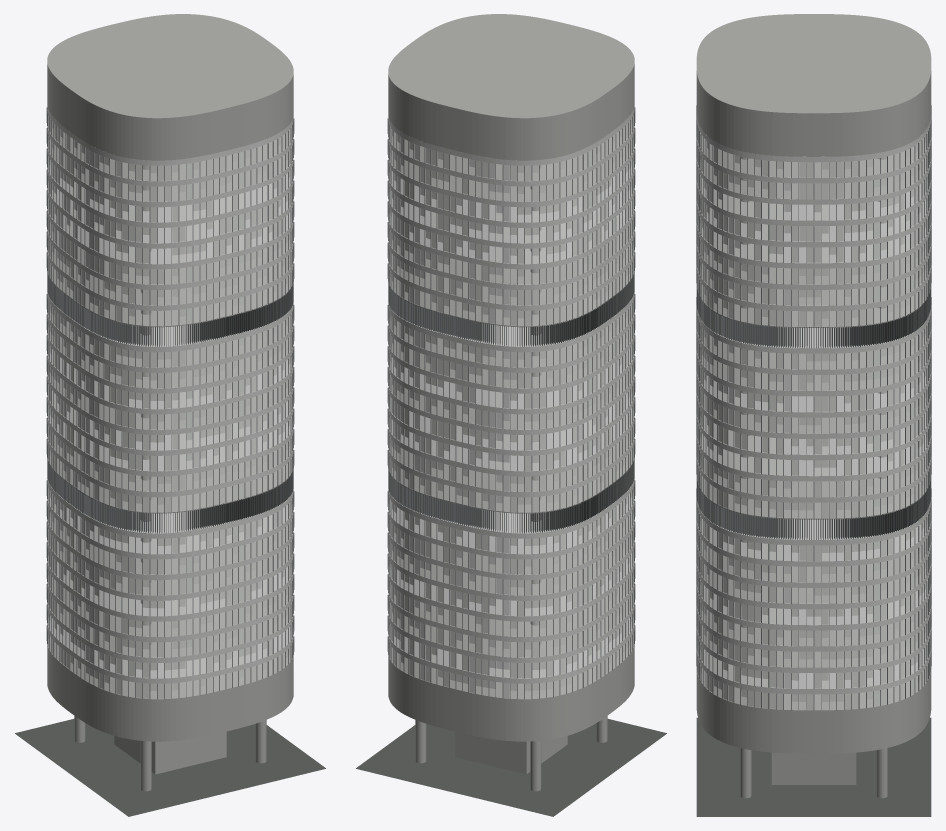
The model's file is office_tower.optimized.glb.
3 renders of one model, left to right at view 1: azimuth 30°, elevation 25°; view 2: azimuth 150°, elevation 25°; view 3: azimuth 270°, elevation 25°, orthographic. The views are drawn at different scales.
Parts seen in each view (by area): view 1: Office_Glass, Web_OfficeConcrete, Web_OfficeSpandrel, Office_Frosted_Curtains, Web_OfficeMullions, Office_Ground; view 2: Office_Glass, Web_OfficeConcrete, Web_OfficeSpandrel, Office_Frosted_Curtains, Web_OfficeMullions, Office_Ground; view 3: Web_OfficeConcrete, Office_Glass, Web_OfficeSpandrel, Office_Frosted_Curtains, Web_OfficeMullions, Office_Ground.
Boxes of the visible parts, x1=… form: Office_Glass: x1=47, y1=115, x2=293, y2=698; Web_OfficeConcrete: x1=47, y1=14, x2=293, y2=791; Web_OfficeSpandrel: x1=47, y1=106, x2=293, y2=683; Office_Frosted_Curtains: x1=48, y1=115, x2=292, y2=698; Web_OfficeMullions: x1=46, y1=107, x2=294, y2=699; Office_Ground: x1=15, y1=719, x2=325, y2=816; Office_Glass: x1=388, y1=115, x2=634, y2=698; Web_OfficeConcrete: x1=388, y1=14, x2=634, y2=791; Web_OfficeSpandrel: x1=388, y1=106, x2=634, y2=683; Office_Frosted_Curtains: x1=389, y1=118, x2=633, y2=698; Web_OfficeMullions: x1=387, y1=107, x2=635, y2=699; Office_Ground: x1=356, y1=719, x2=666, y2=816; Web_OfficeConcrete: x1=696, y1=14, x2=931, y2=798; Office_Glass: x1=699, y1=132, x2=928, y2=709; Web_OfficeSpandrel: x1=696, y1=115, x2=931, y2=694; Office_Frosted_Curtains: x1=697, y1=126, x2=930, y2=709; Web_OfficeMullions: x1=696, y1=105, x2=931, y2=710; Office_Ground: x1=696, y1=717, x2=931, y2=816.
Bounding box in the file's own units: 50.16 × 165 × 50.16.
Materials: 8 (8 with a texture image).
